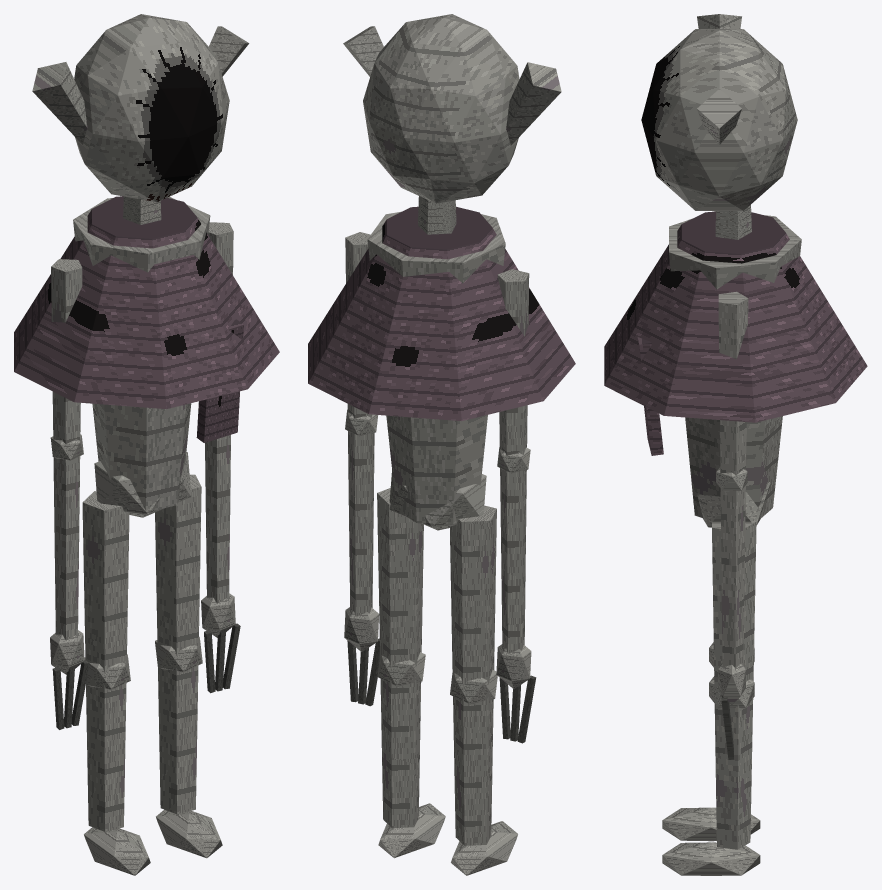
File: hollow-walker.glb
3 views of the same model, side by side, from view 1: azimuth 30°, elevation 25°; view 2: azimuth 150°, elevation 25°; view 3: azimuth 270°, elevation 25° (orthographic).
Parts seen in each view (by area): view 1: torso, head, leg-left, leg-right, arm-left, arm-right; view 2: torso, head, leg-left, leg-right, arm-left, arm-right; view 3: torso, head, leg-right, arm-right, leg-left.
Part boxes in pixels (x1=…): torso: x1=14, y1=196, x2=279, y2=517; head: x1=32, y1=14, x2=249, y2=202; leg-left: x1=82, y1=491, x2=150, y2=875; leg-right: x1=155, y1=474, x2=222, y2=858; arm-left: x1=50, y1=259, x2=89, y2=729; arm-right: x1=201, y1=222, x2=240, y2=693; torso: x1=308, y1=196, x2=575, y2=530; head: x1=343, y1=14, x2=561, y2=203; leg-left: x1=449, y1=505, x2=517, y2=875; leg-right: x1=377, y1=488, x2=445, y2=858; arm-left: x1=496, y1=269, x2=536, y2=743; arm-right: x1=344, y1=232, x2=379, y2=706; torso: x1=604, y1=205, x2=867, y2=527; head: x1=641, y1=14, x2=797, y2=210; leg-right: x1=662, y1=521, x2=760, y2=875; arm-right: x1=716, y1=291, x2=748, y2=759; leg-left: x1=662, y1=642, x2=760, y2=841.
Bounding box in the file's own units: 0.65 × 2.22 × 0.6401.
1 material, 1 textured.
